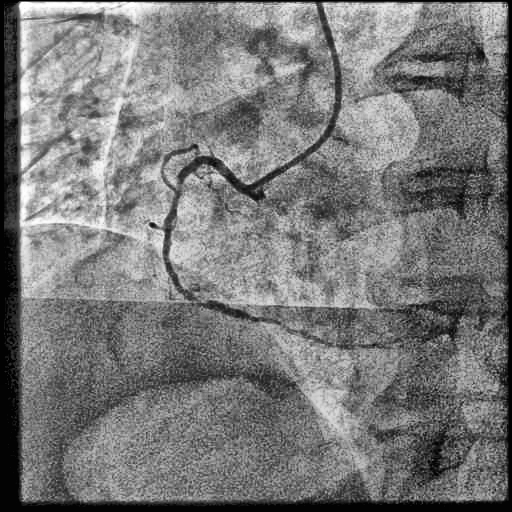rca: (163, 156, 376, 349)
